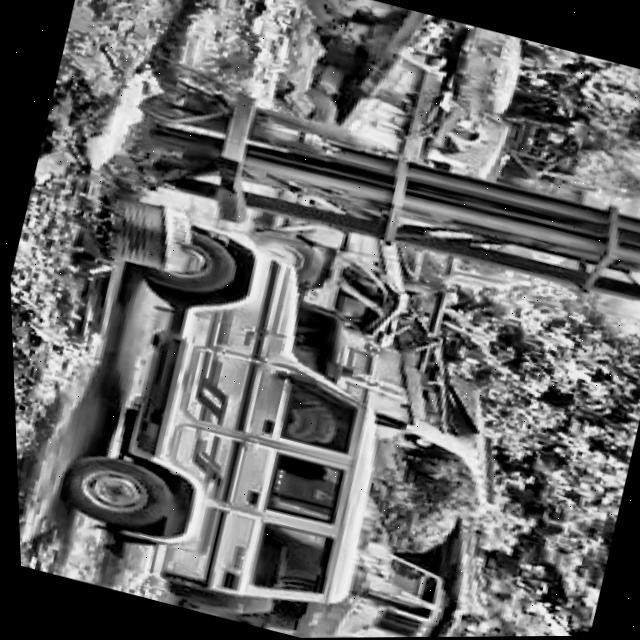light_vehicle: (100, 212, 456, 618)
